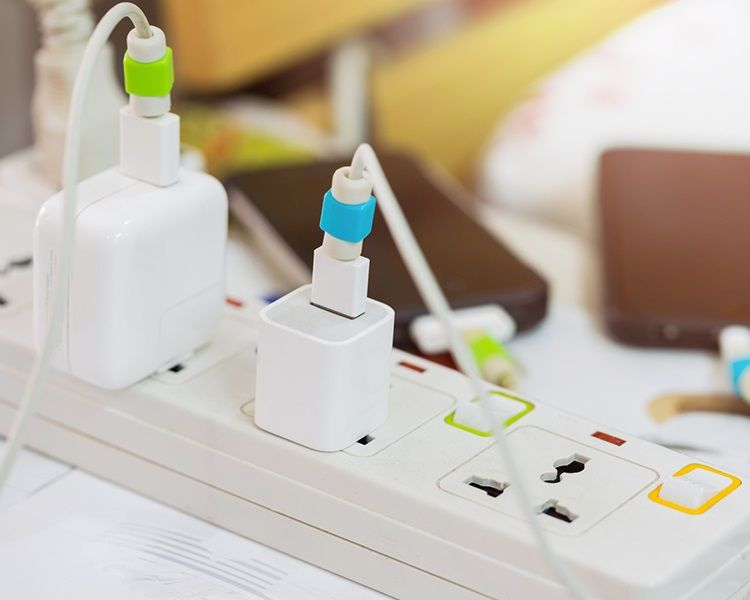Three_eye_plug: (1, 297, 746, 600)
